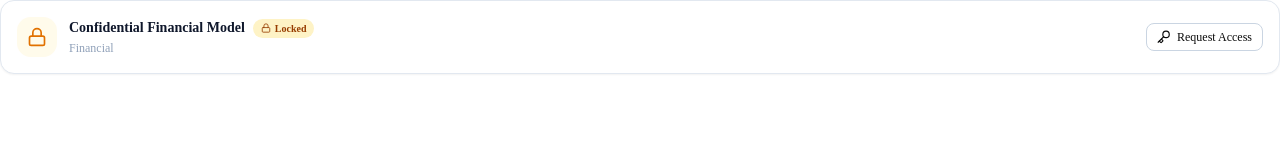
Test: Investor Module Component Tests › 3. DocumentAccessRow Component (Document Access Rules) › locked document without approval displays "Request Access" button and handles request
Expected: the heading "Confidential Financial Model" is shown, [69,18,245,38]
Expected: the text "Locked" is shown, [253,18,314,38]
Step 1. Click the button with test id "request-doc-btn-doc-locked-1" → (1204, 37), box [1146,23,1263,51]
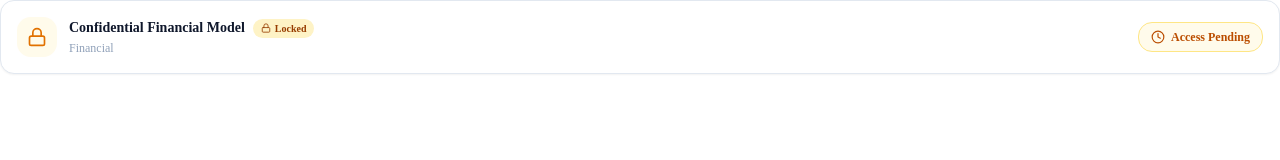
Expected: the text "Access Pending" is shown, [1171,29,1250,45]
